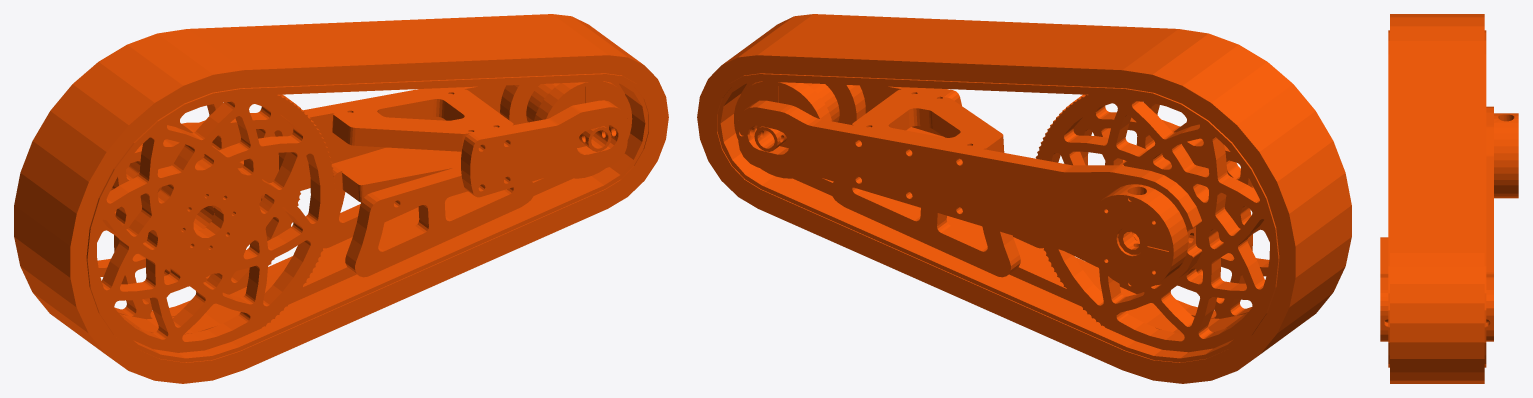
File: flipper.dae
3 views of the same model, side by side, from view 1: azimuth 30°, elevation 25°; view 2: azimuth 150°, elevation 25°; view 3: azimuth 270°, elevation 25° (orthographic). The views are drawn at different scales.
Visible parts, largest first — view 1: Flipper-rear-right; view 2: Flipper-rear-right; view 3: Flipper-rear-right.
Boxes of the visible parts, x1=… form: Flipper-rear-right: x1=14, y1=14, x2=668, y2=383; Flipper-rear-right: x1=697, y1=14, x2=1351, y2=383; Flipper-rear-right: x1=1380, y1=14, x2=1518, y2=383.
Bounding box in the file's own units: 17.79 × 4.23 × 8.68.
